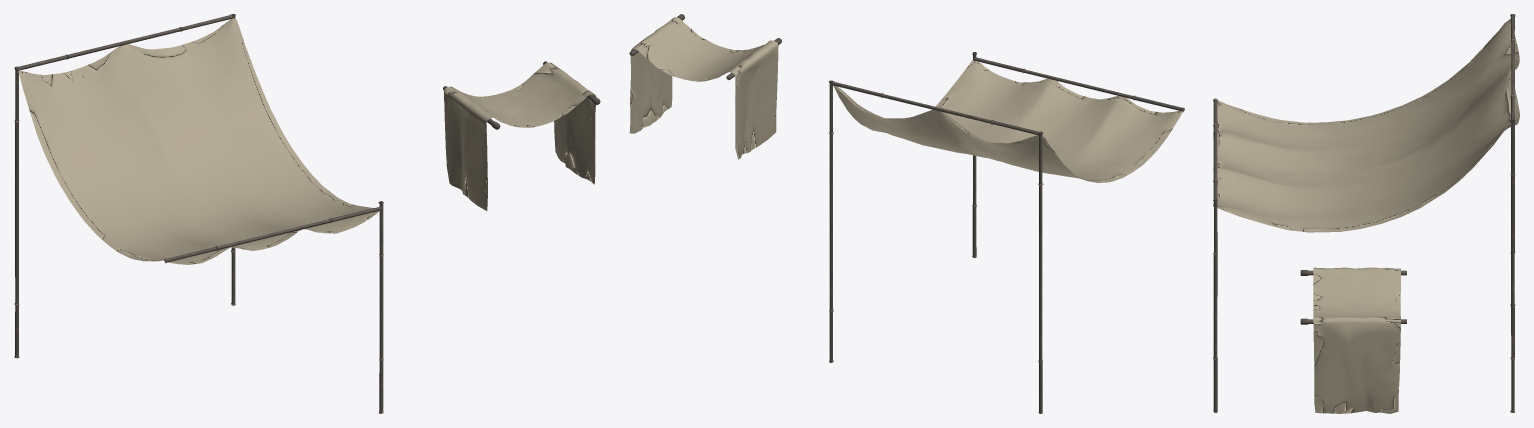
The model's file is stall.glb.
The picture shows the model from 3 angles, left to right: view 1: azimuth 30°, elevation 25°; view 2: azimuth 150°, elevation 25°; view 3: azimuth 270°, elevation 25°; orthographic projection. The views are drawn at different scales.
Visible parts, largest first — view 1: tent2_low_tent_mat_0, props 2_e.001_SWprops2_mat_0; view 2: tent2_low_tent_mat_0, props 2_e.001_SWprops2_mat_0; view 3: tent2_low_tent_mat_0, props 2_e.001_SWprops2_mat_0.
Boxes of the visible parts, left/top/right/bottom form: tent2_low_tent_mat_0: left=18, top=18, right=596, bottom=264; props 2_e.001_SWprops2_mat_0: left=14, top=14, right=600, bottom=413; tent2_low_tent_mat_0: left=629, top=17, right=1183, bottom=182; props 2_e.001_SWprops2_mat_0: left=629, top=14, right=1184, bottom=413; tent2_low_tent_mat_0: left=1213, top=18, right=1519, bottom=413; props 2_e.001_SWprops2_mat_0: left=1213, top=14, right=1515, bottom=412.
Size of the model in its own units: 5 by 2.86 by 2.73.
Materials: 2 (1 with a texture image).
